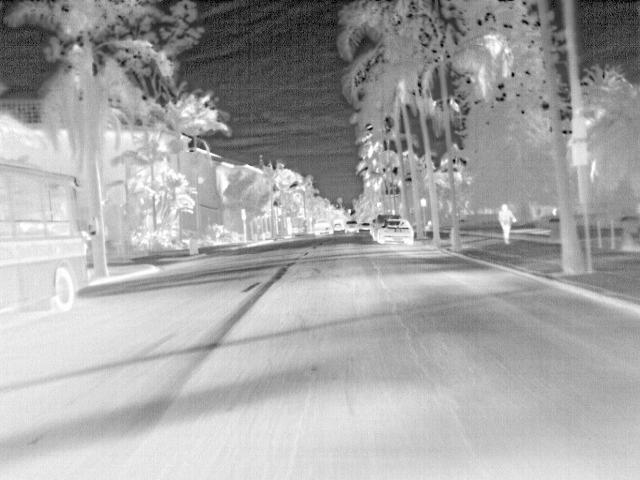car: (379, 218, 414, 244), (370, 216, 383, 240), (315, 220, 334, 236), (331, 220, 344, 232), (345, 220, 357, 232), (356, 222, 370, 232)
person: (499, 199, 517, 242)
